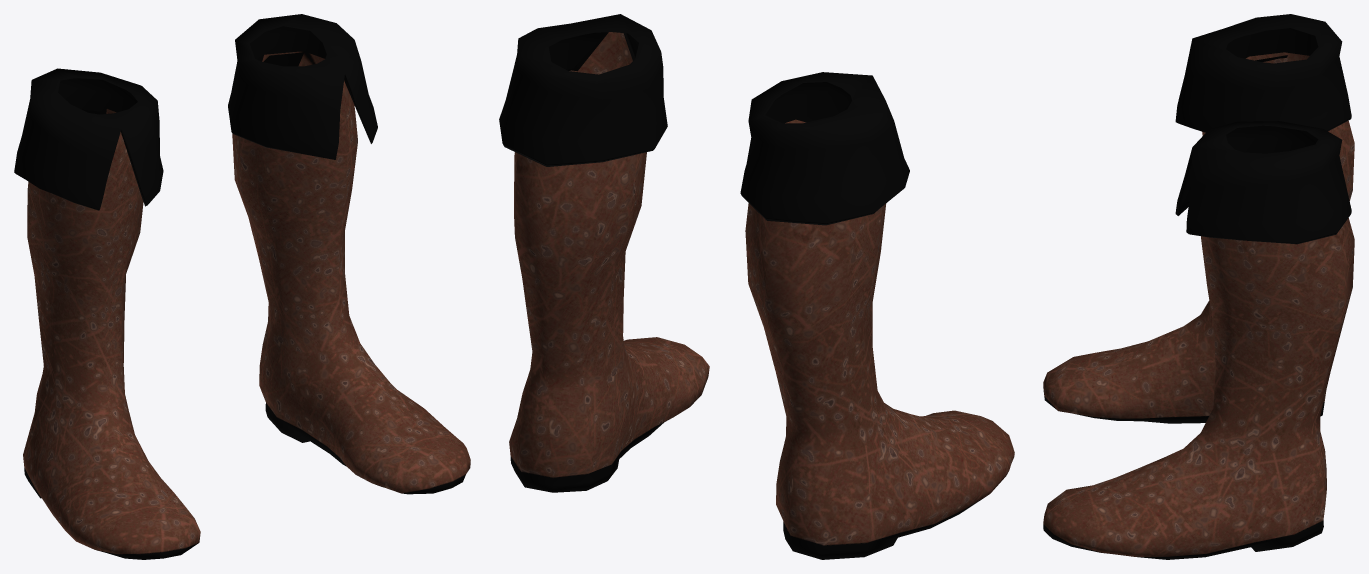
Rendered from shoes.fbx.
The picture shows the model from 3 angles, left to right: view 1: azimuth 30°, elevation 25°; view 2: azimuth 150°, elevation 25°; view 3: azimuth 270°, elevation 25°; orthographic projection. The views are drawn at different scales.
Parts seen in each view (by area): view 1: shoes3; view 2: shoes3; view 3: shoes3.
Boxes of the visible parts, <box> form: shoes3: <box>14,14,470,559</box>; shoes3: <box>499,14,1014,559</box>; shoes3: <box>1043,14,1354,559</box>.
Size of the model in its own units: 46.91 by 45.77 by 33.27.
